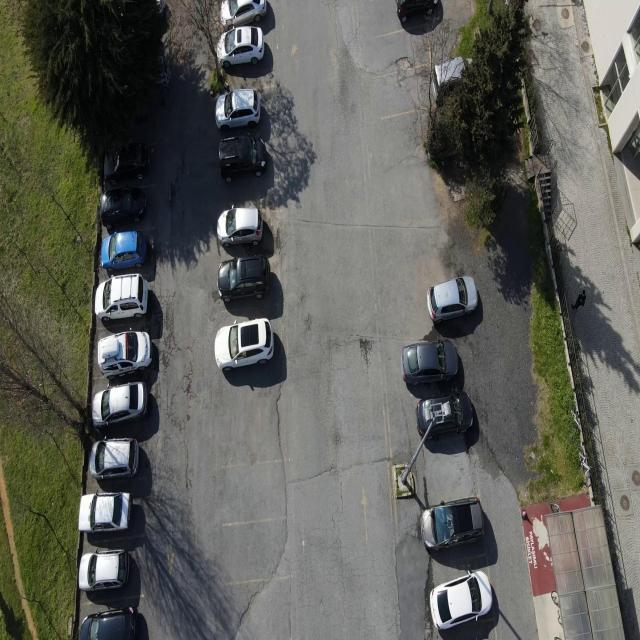p3rson: (570, 287, 588, 310)
